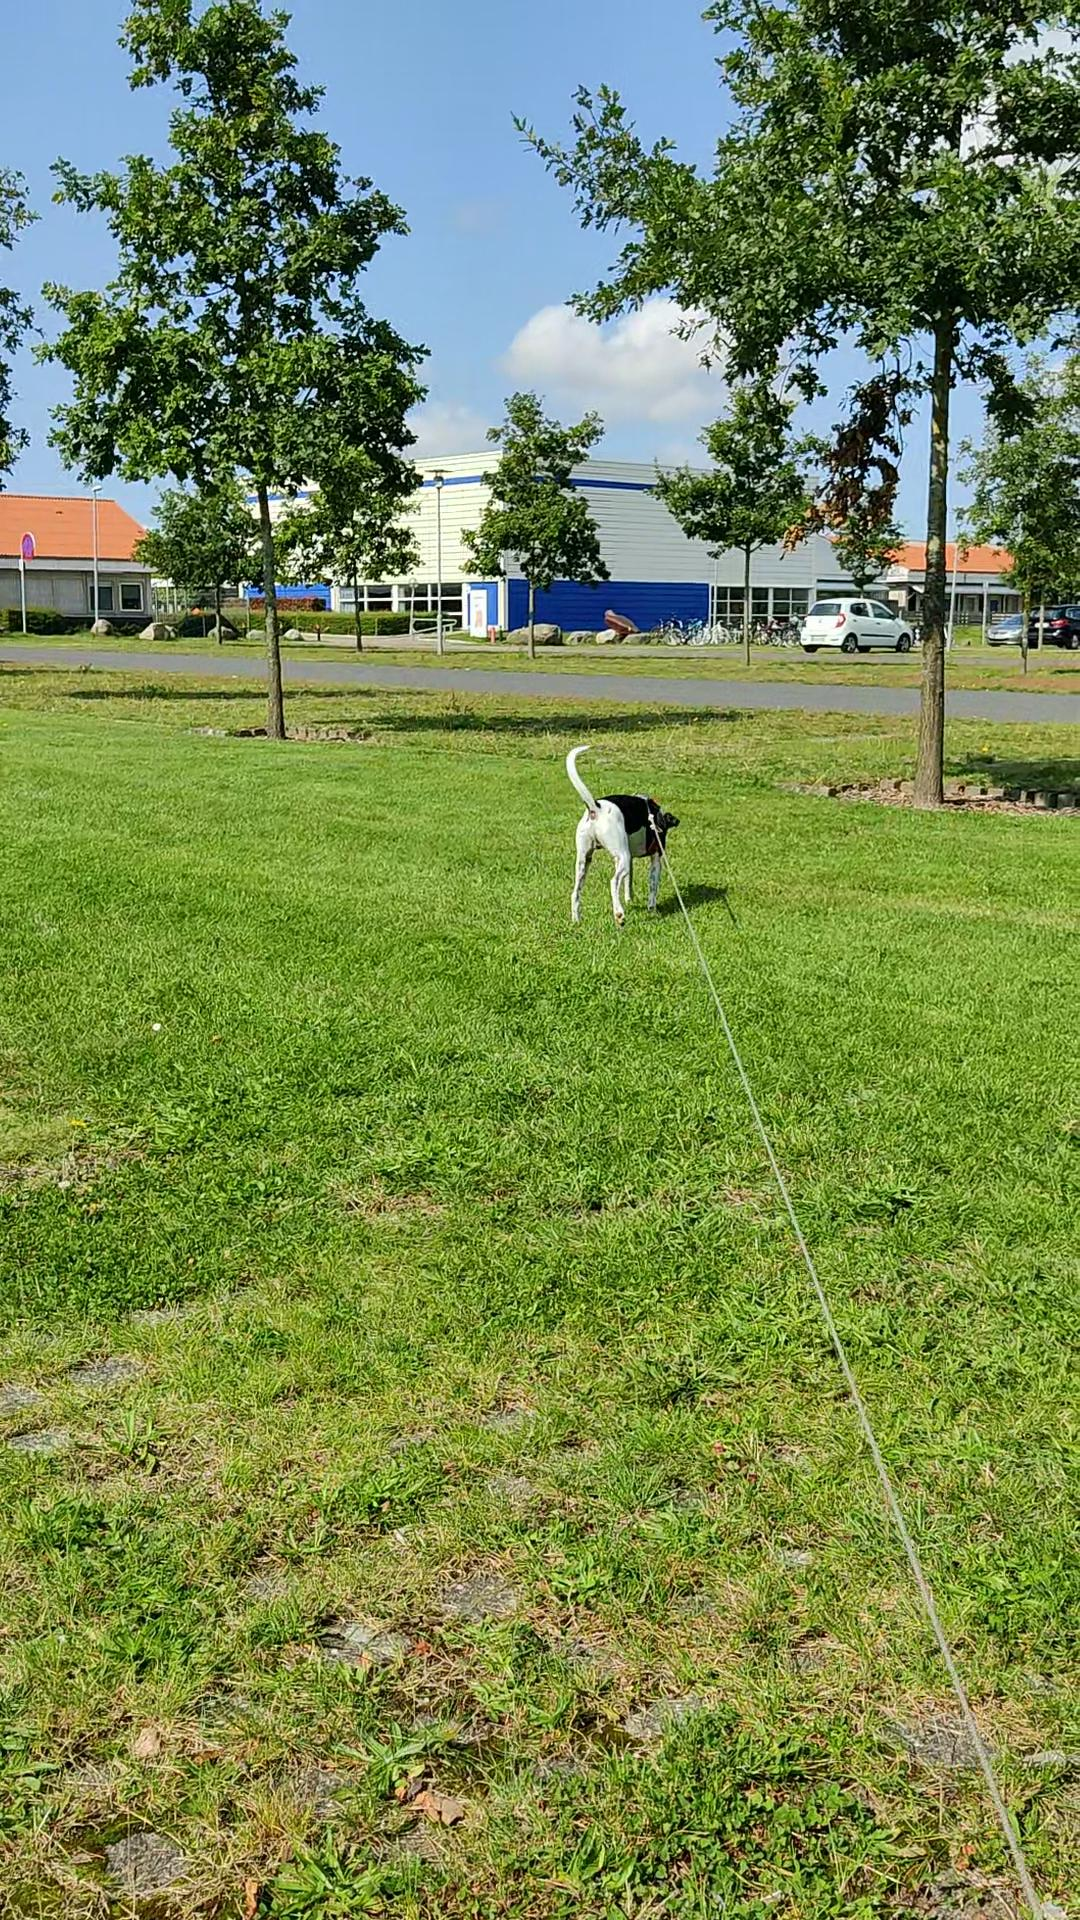Dog: (554, 740, 692, 935)
